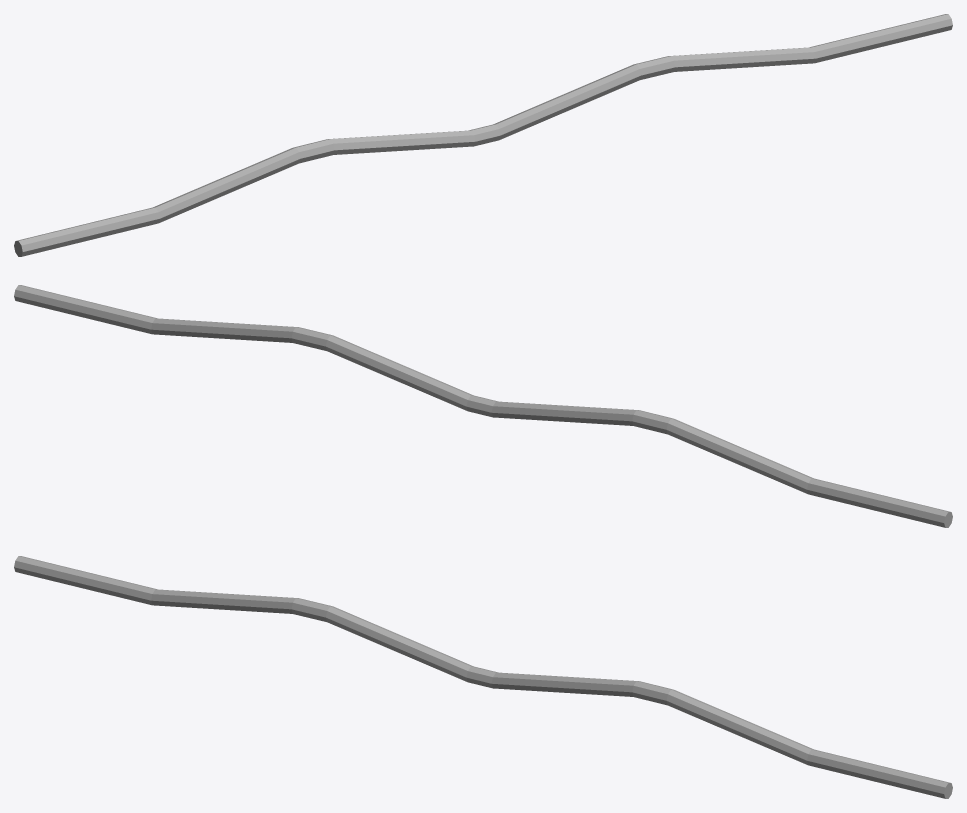
File: ezbar.glb
3 views of the same model, one above another, from view 1: azimuth 30°, elevation 25°; view 2: azimuth 150°, elevation 25°; view 3: azimuth 330°, elevation 25° (orthographic).
Parts seen in each view (by area): view 1: EzBar; view 2: EzBar; view 3: EzBar.
Part boxes in pixels (x1,y1,x2,y2): EzBar: [14, 14, 952, 256]; EzBar: [14, 285, 952, 527]; EzBar: [14, 556, 952, 798].
Size of the model in its own units: 1.51 by 0.0646 by 0.0247.
1 material, 1 textured.
